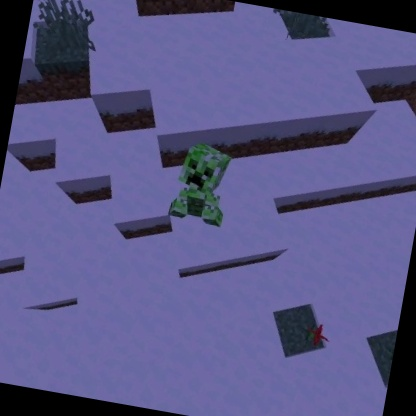creeper: (165, 137, 237, 232)
